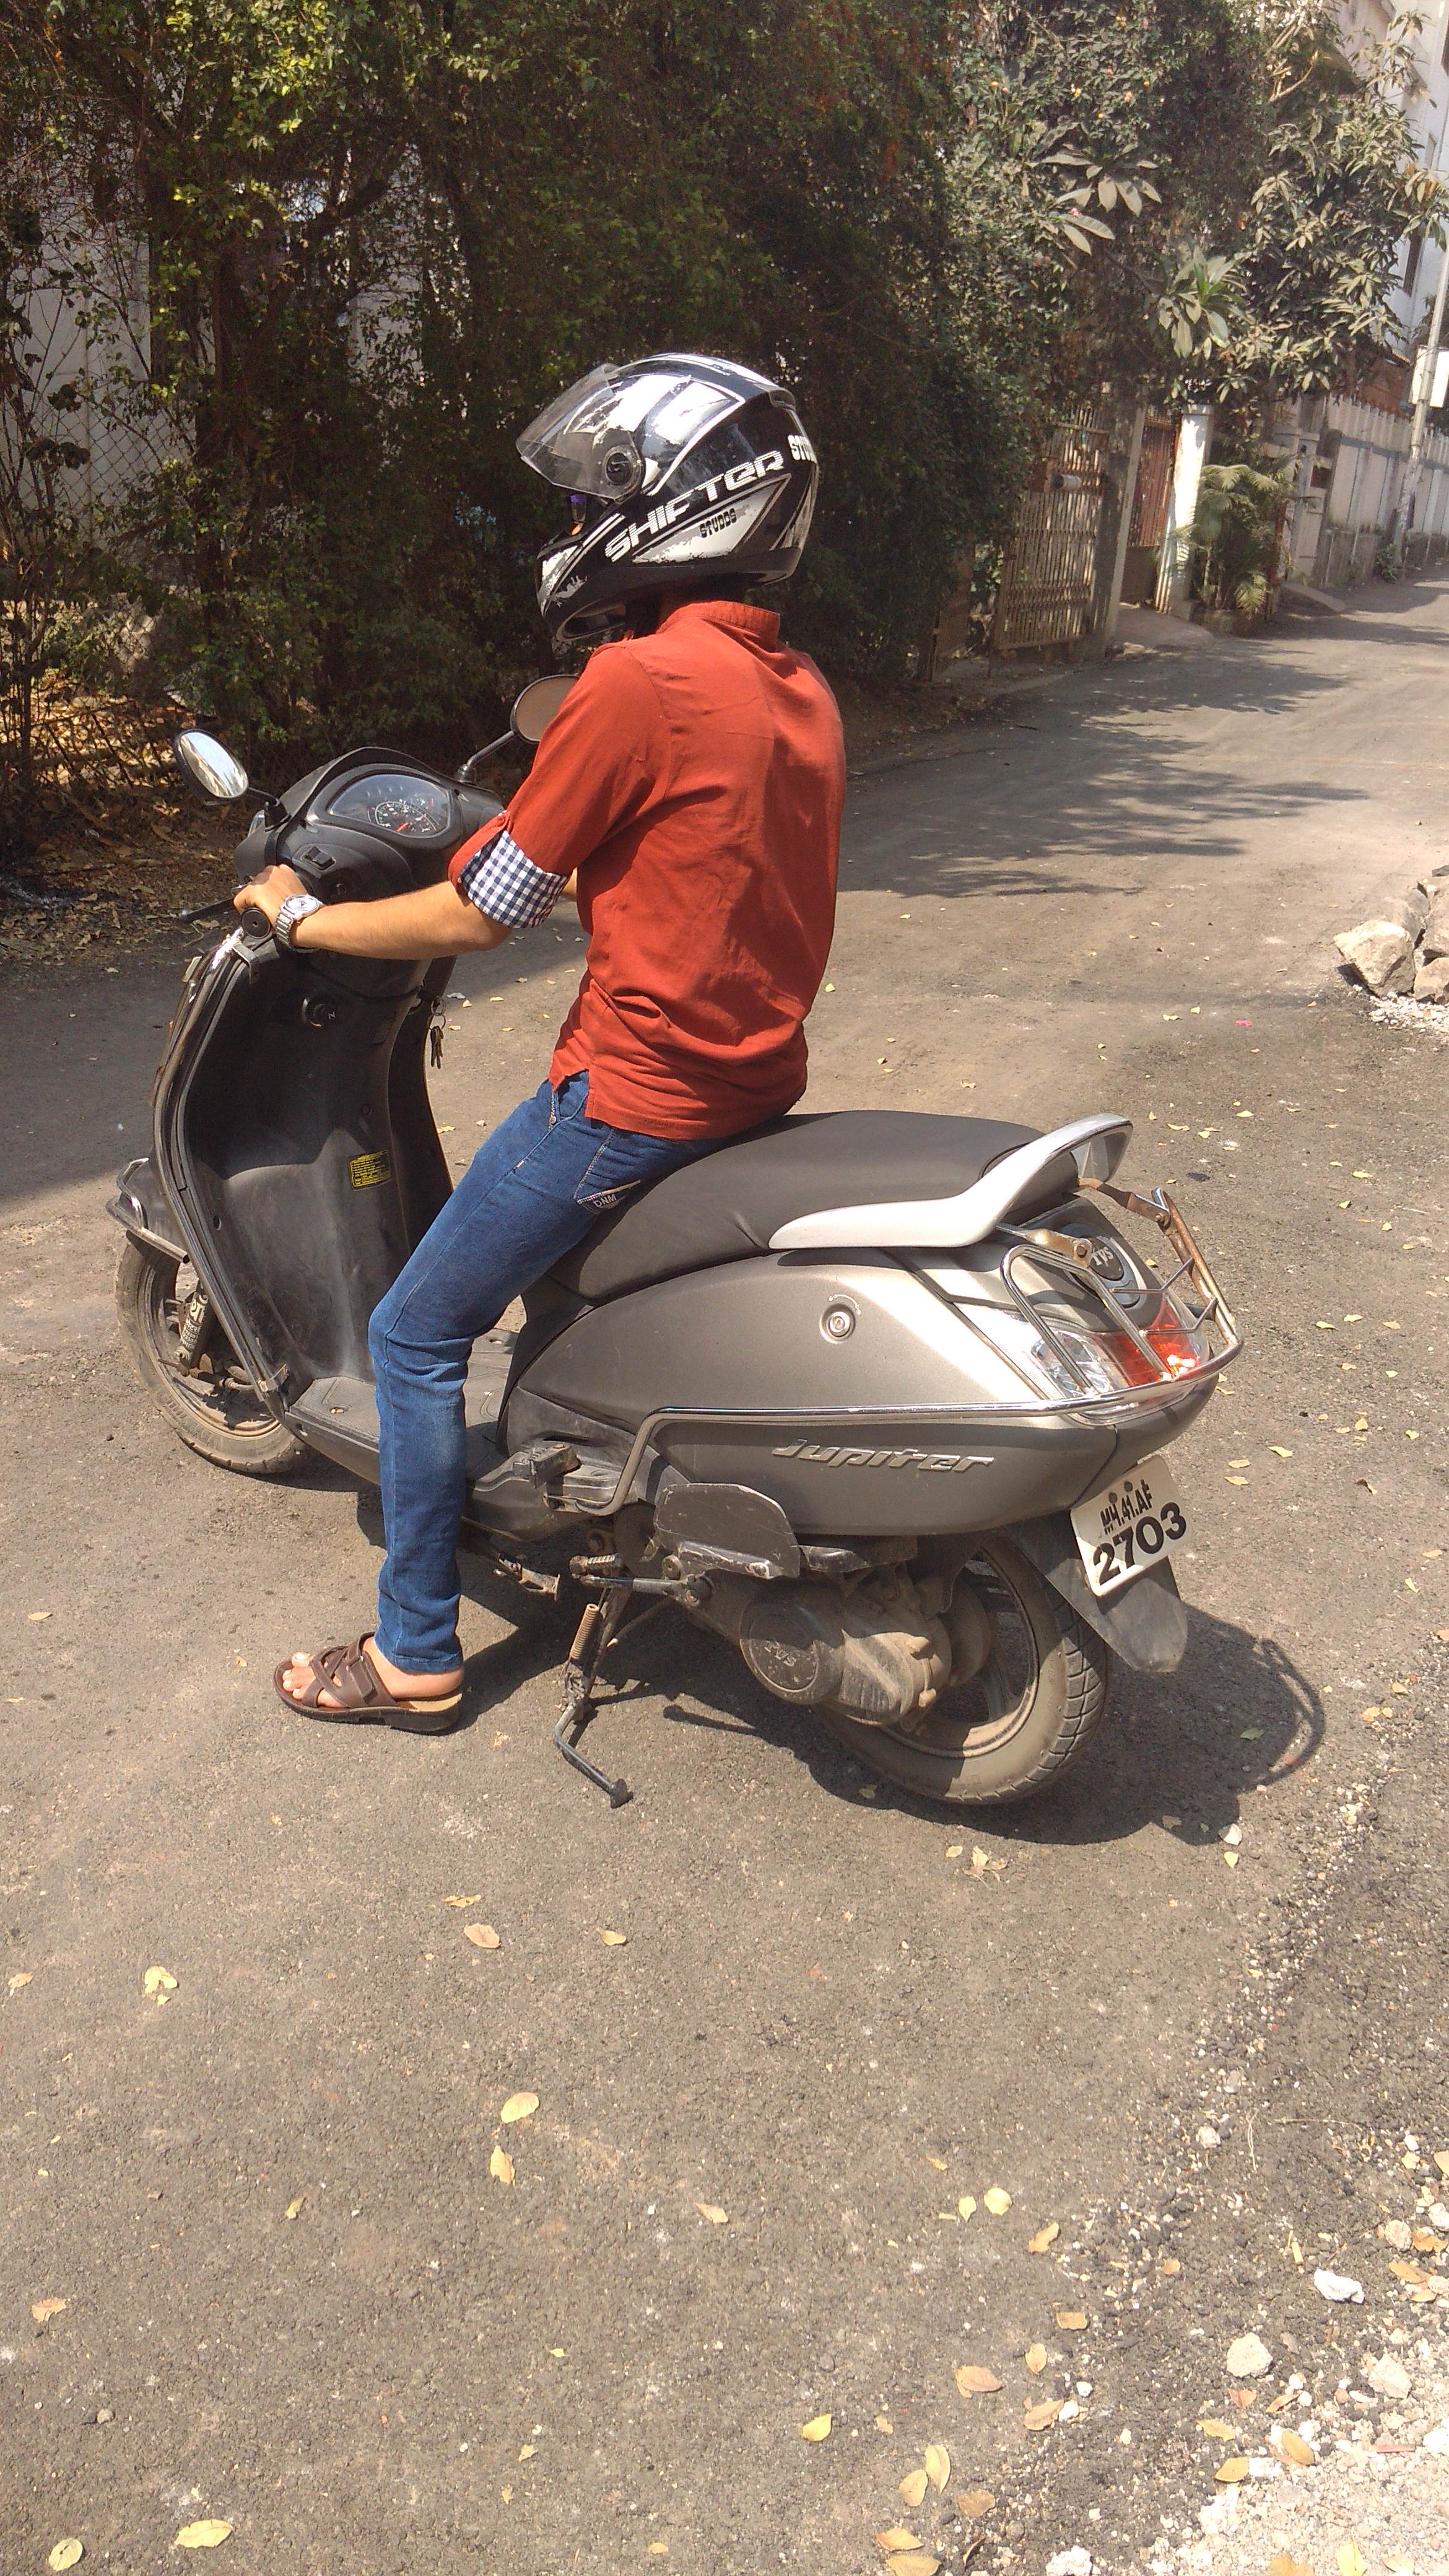helmet: (414, 356, 1042, 1375)
